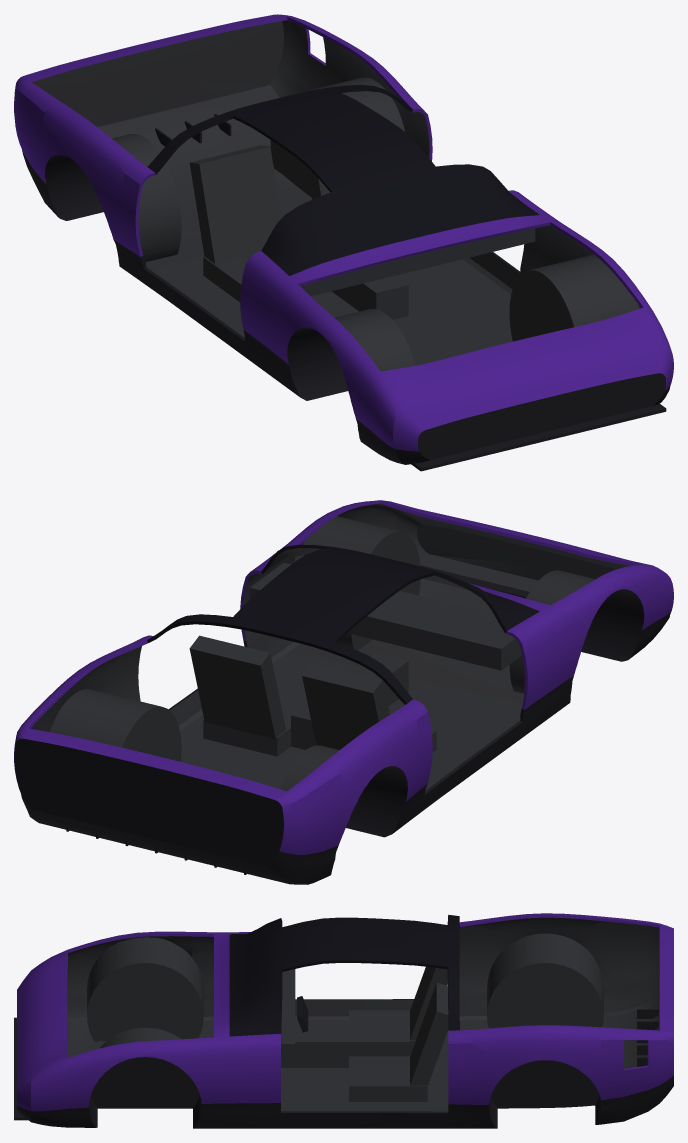
The model's file is body.glb.
3 renders of one model, top to bottom at view 1: azimuth 30°, elevation 25°; view 2: azimuth 150°, elevation 25°; view 3: azimuth 270°, elevation 25°, orthographic. The views are drawn at different scales.
Parts seen in each view (by area): view 1: body; view 2: body; view 3: body.
Part boxes in pixels (x1,y1,x2,y2): body: (14, 14, 673, 471); body: (14, 500, 673, 884); body: (14, 913, 673, 1128).
Bounding box in the file's own units: 2.09 × 1.07 × 4.62.
